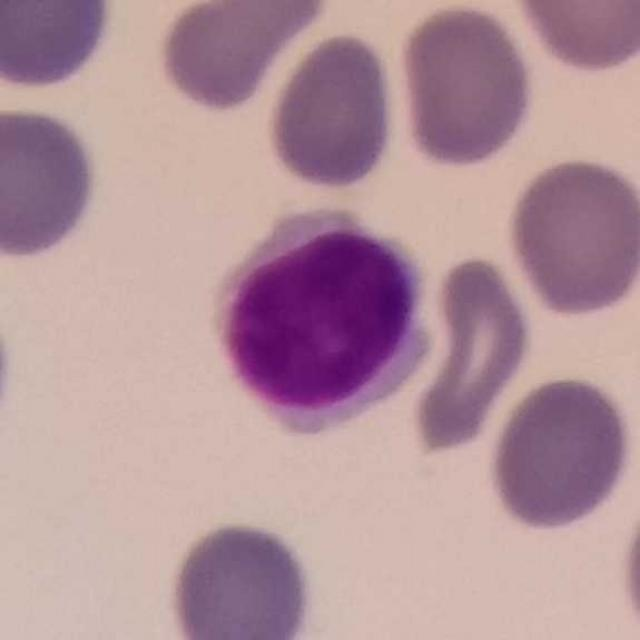Lymphocyte: (203, 200, 442, 437)
RBC: (408, 251, 538, 458), (392, 1, 541, 173), (483, 372, 637, 535), (261, 28, 403, 195), (501, 152, 640, 320), (151, 1, 333, 116), (162, 515, 321, 640), (0, 102, 105, 266), (0, 0, 121, 93), (507, 0, 640, 77)
